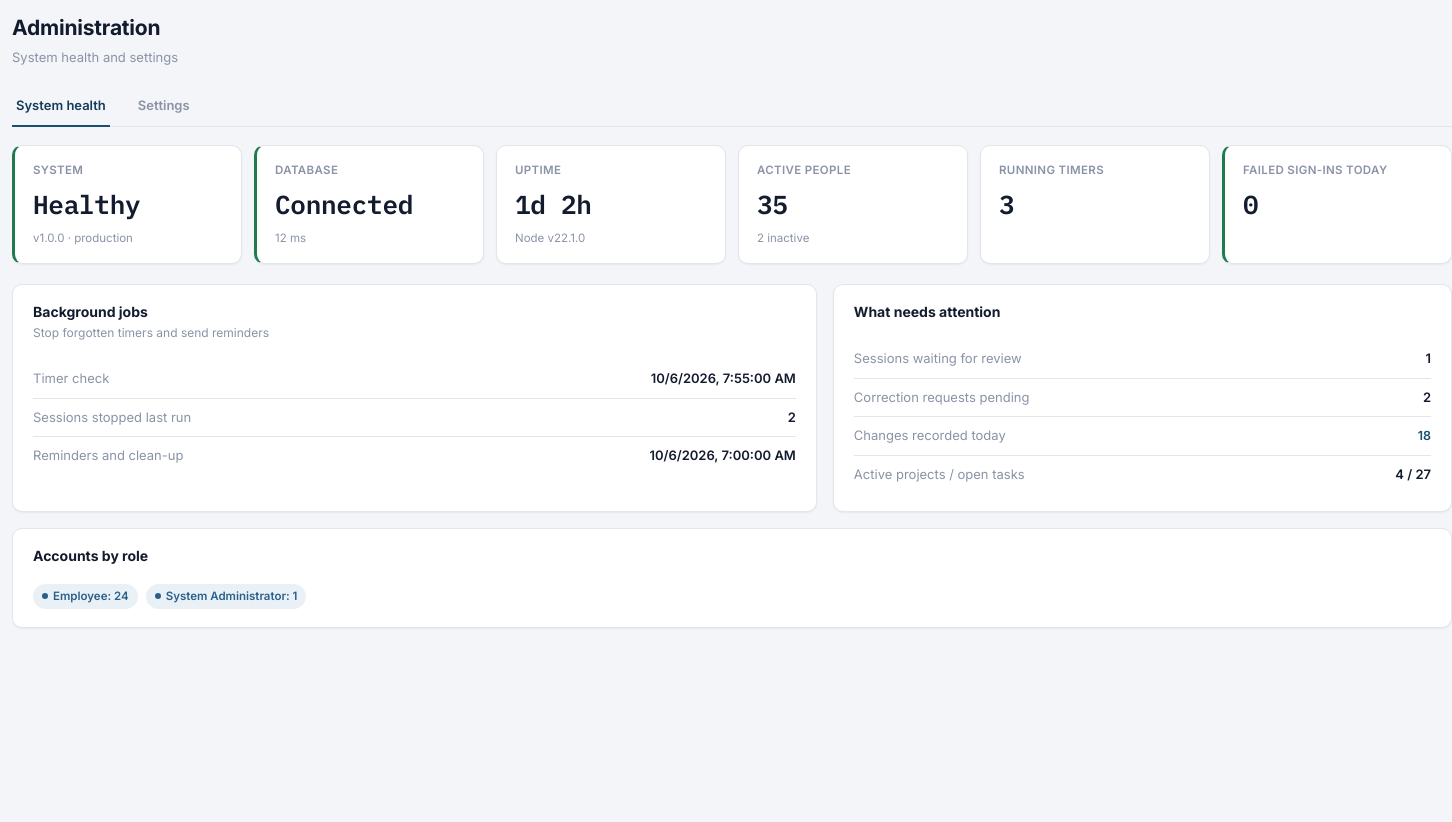
Test case: Administration: settings › shows each setting with its value, range, and whether it was changed
Expected: the text "Healthy" is shown, x1=33 y1=187 x2=140 y2=221
Click the text "Settings".
click(164, 105)  # box x1=138 y1=97 x2=190 y2=113
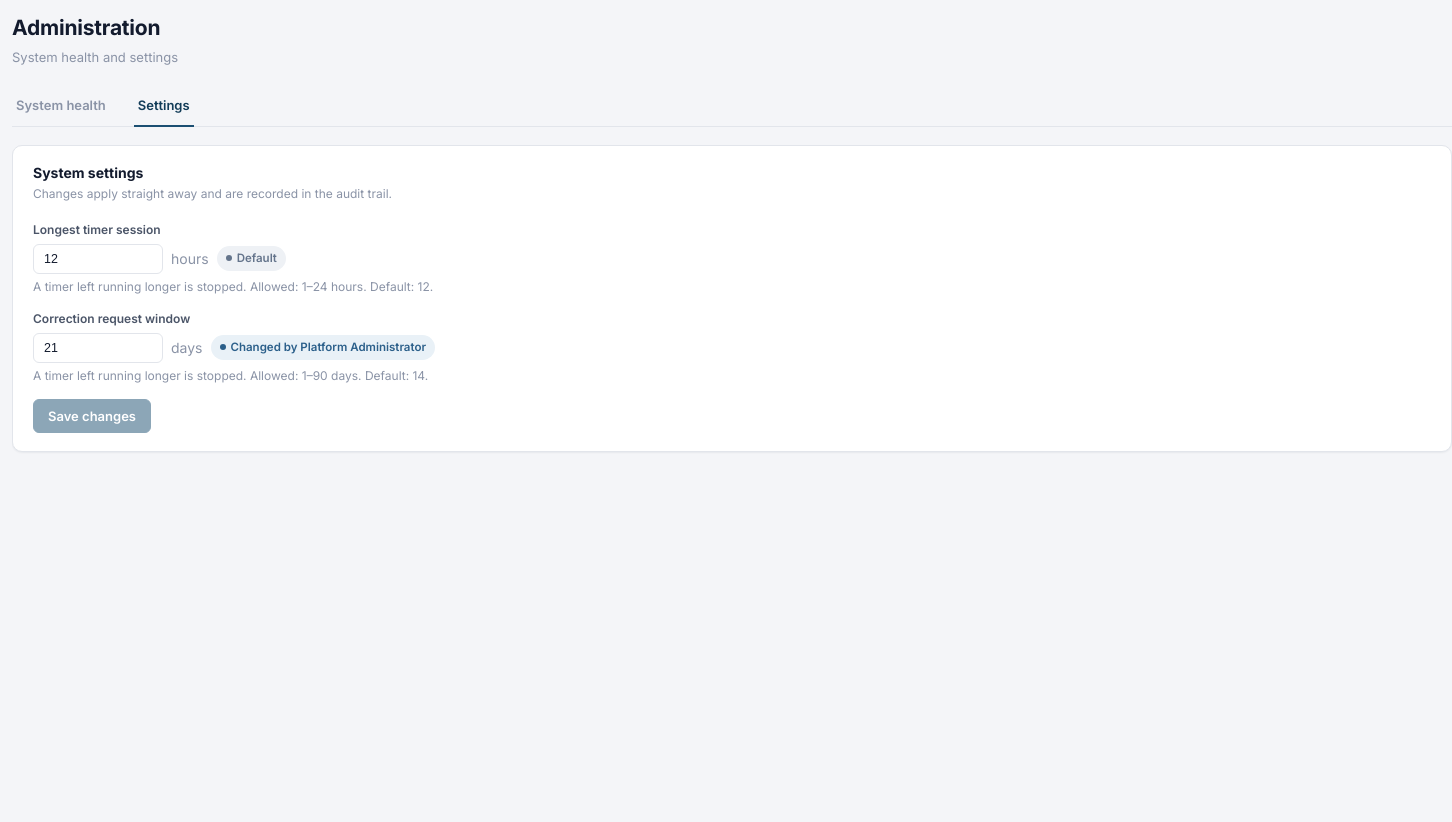
Now the heading "System settings" is shown, box x1=33 y1=164 x2=143 y2=180
Now the number field named "Longest timer session" holds "12", box x1=33 y1=244 x2=163 y2=274
Now the number field named "Correction request window" holds "21", box x1=33 y1=332 x2=163 y2=362
